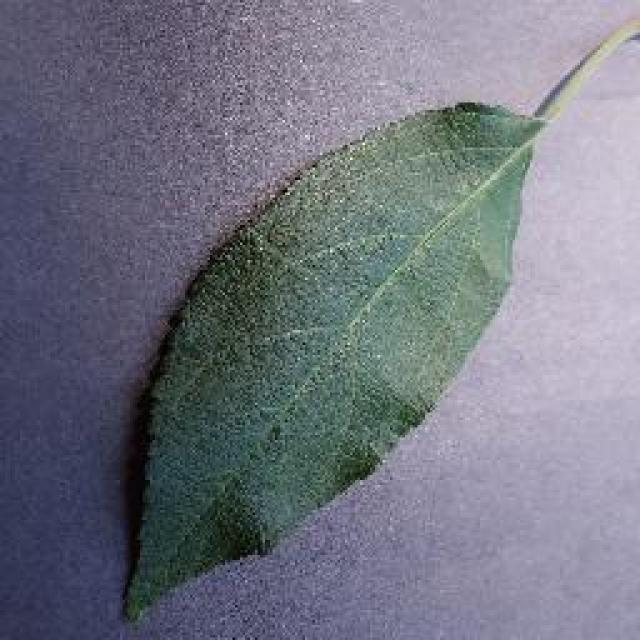apple healthy: (115, 2, 637, 622)
